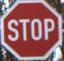Stop sign: (0, 0, 63, 60)
